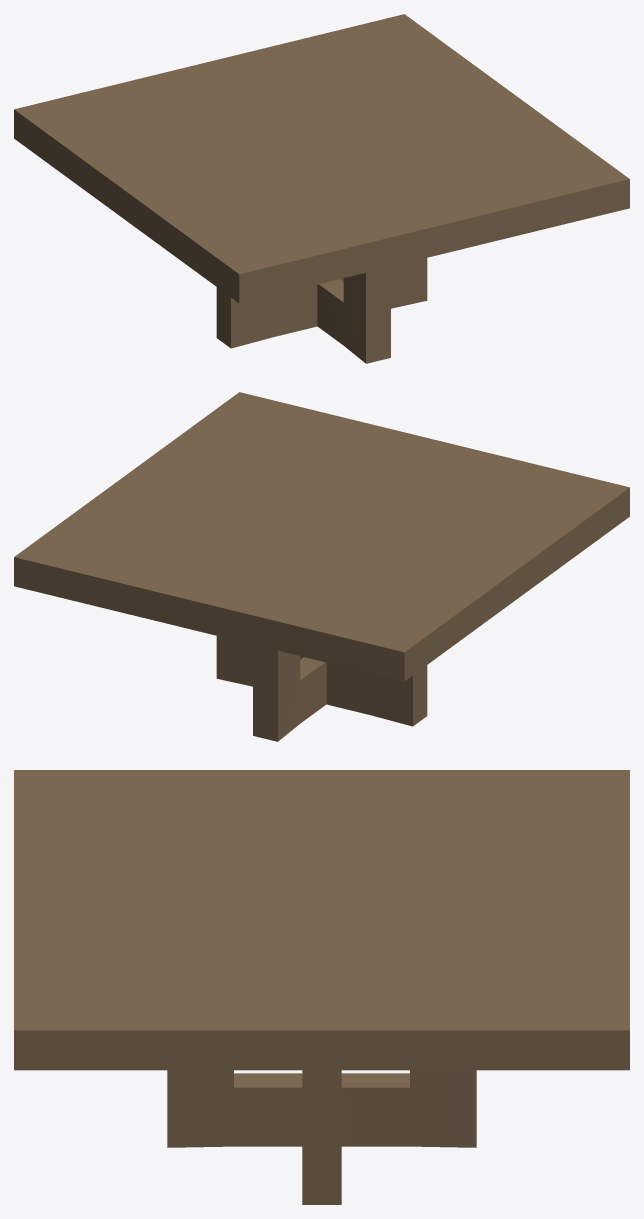
File: table.fbx
The picture shows the model from 3 angles, top to bottom: view 1: azimuth 30°, elevation 25°; view 2: azimuth 150°, elevation 25°; view 3: azimuth 270°, elevation 25°; orthographic projection. The views are drawn at different scales.
Visible parts, largest first — view 1: polySurface1; view 2: polySurface1; view 3: polySurface1.
Boxes of the visible parts, left/top/right/bottom form: polySurface1: left=14, top=14, right=629, bottom=363; polySurface1: left=14, top=392, right=629, bottom=741; polySurface1: left=14, top=770, right=629, bottom=1204.
Bounding box in the file's own units: 14 × 6 × 14.
